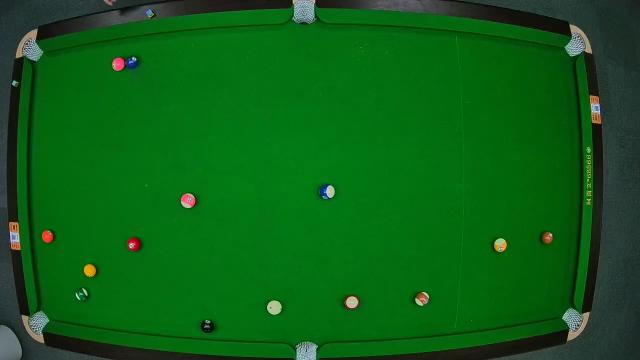bag1: (21, 40, 41, 61)
bag2: (292, 1, 316, 23)
bag3: (566, 34, 588, 56)
bag4: (28, 310, 48, 334)
bag5: (294, 339, 317, 360)
bag6: (562, 310, 582, 330)
ball0: (266, 300, 282, 314)
ball1: (84, 264, 96, 278)
ball10: (318, 184, 334, 200)
ball11: (344, 294, 360, 310)
ball12: (180, 192, 196, 209)
ball14: (75, 287, 88, 301)
ball15: (416, 292, 428, 307)
ball2: (125, 56, 138, 68)
ball3: (128, 237, 140, 251)
ball4: (112, 57, 125, 72)
ball5: (41, 228, 55, 244)
ball7: (540, 232, 554, 244)
ball8: (200, 318, 214, 334)
ball9: (494, 238, 508, 252)
